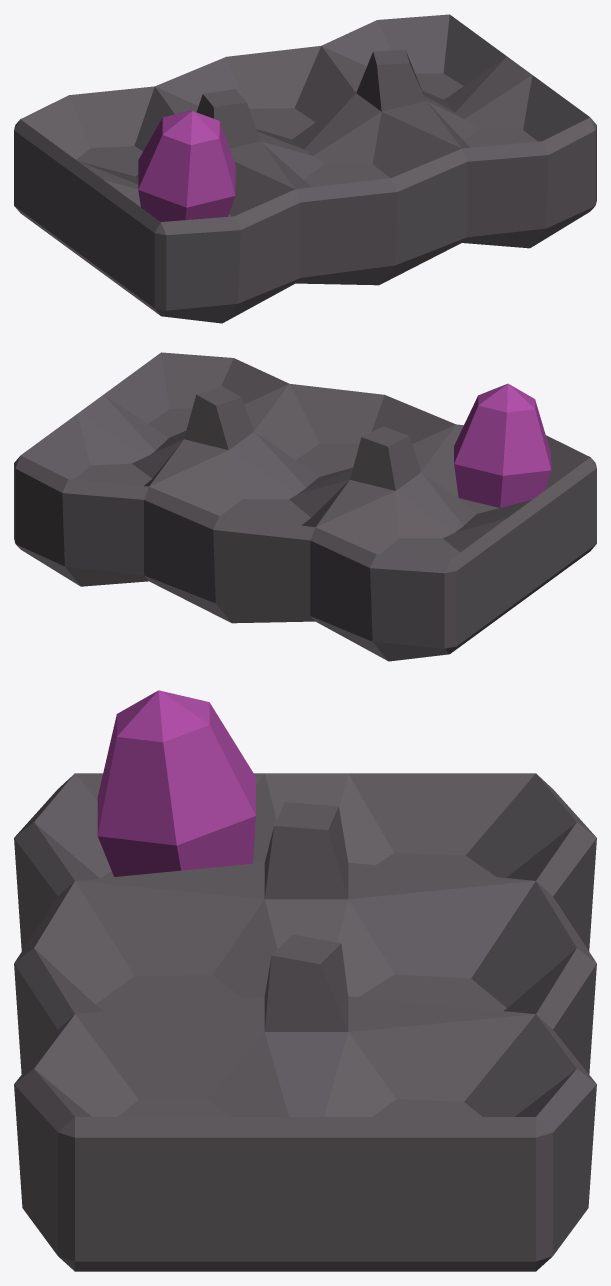
The model's file is toy_eggcarton 1.fbx.
3 renders of one model, top to bottom at view 1: azimuth 30°, elevation 25°; view 2: azimuth 150°, elevation 25°; view 3: azimuth 270°, elevation 25°, orthographic. The views are drawn at different scales.
Visible parts, largest first — view 1: eggcarton_low; view 2: eggcarton_low; view 3: eggcarton_low.
Part boxes in pixels (x1=…): eggcarton_low: x1=14, y1=14, x2=596, y2=323; eggcarton_low: x1=14, y1=352, x2=596, y2=661; eggcarton_low: x1=14, y1=690, x2=596, y2=1271.
Size of the model in its own units: 0.4366 by 0.184 by 0.3038.
